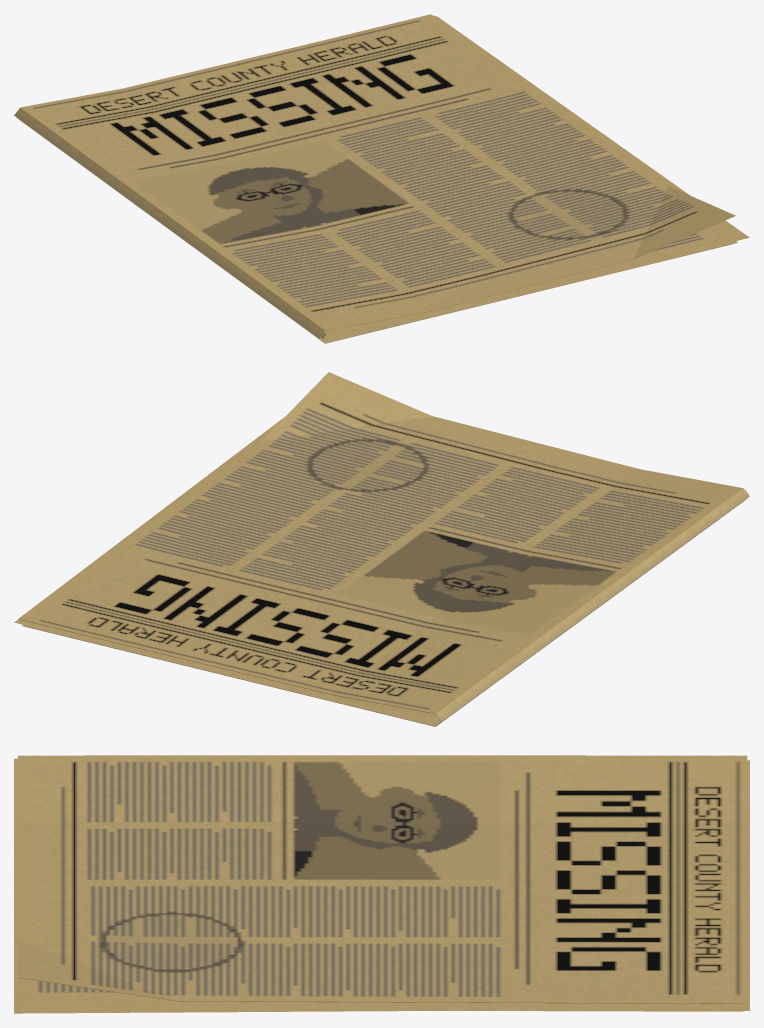
The model's file is SM_Motel_Newspaper.obj.
3 views of the same model, one above another, from view 1: azimuth 30°, elevation 25°; view 2: azimuth 150°, elevation 25°; view 3: azimuth 270°, elevation 25° (orthographic). The views are drawn at different scales.
Visible parts, largest first — view 1: SM_Motel_Newspaper; view 2: SM_Motel_Newspaper; view 3: SM_Motel_Newspaper.
Part boxes in pixels (x1=…): SM_Motel_Newspaper: x1=14, y1=14, x2=749, y2=343; SM_Motel_Newspaper: x1=14, y1=372, x2=749, y2=726; SM_Motel_Newspaper: x1=14, y1=755, x2=749, y2=1013.
Bounding box in the file's own units: 0.309 × 0.0192 × 0.3834.
2 materials, 2 textured.
